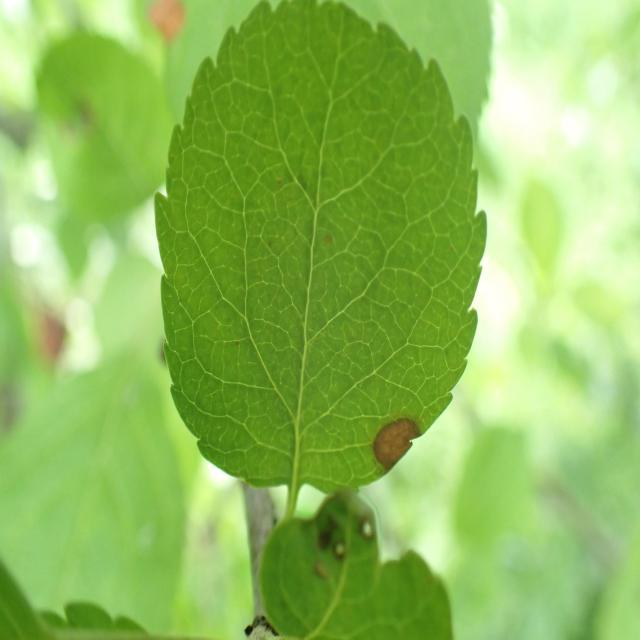Black Rot: (298, 490, 388, 612), (356, 381, 421, 490)
